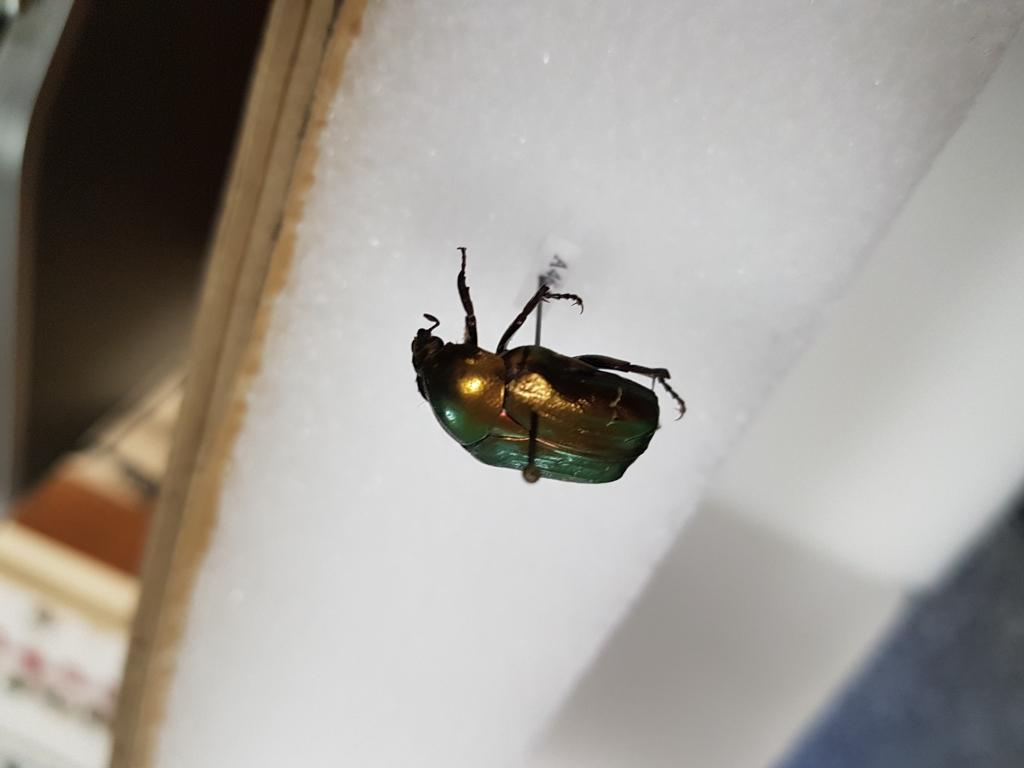Cetonia_kemali: (412, 238, 686, 488)
